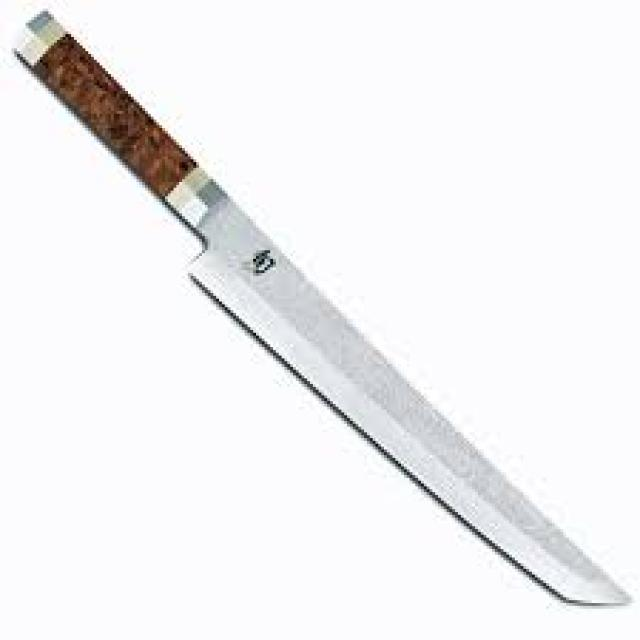knife: (13, 7, 633, 615)
